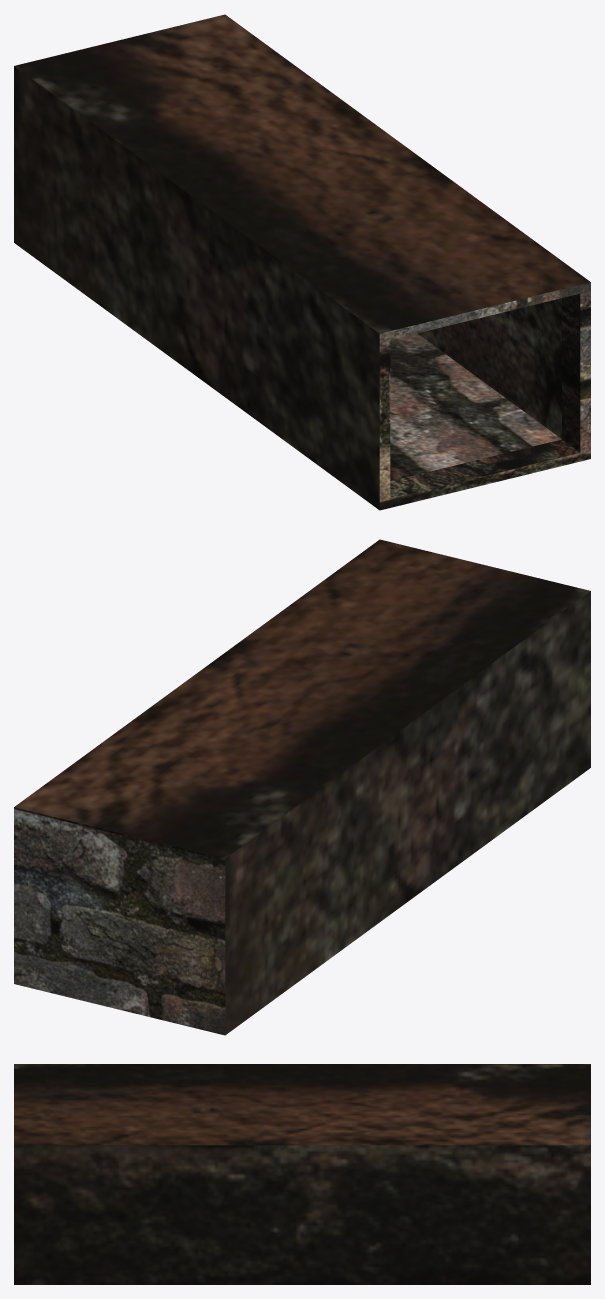
3 views of the same model, one above another, from view 1: azimuth 30°, elevation 25°; view 2: azimuth 150°, elevation 25°; view 3: azimuth 270°, elevation 25° (orthographic). The views are drawn at different scales.
Visible parts, largest first — view 1: 立方体; view 2: 立方体; view 3: 立方体.
Part boxes in pixels (box(x1,y1,x2,y2)): 立方体: box(14, 14, 590, 510); 立方体: box(14, 539, 590, 1035); 立方体: box(14, 1064, 590, 1284).
Bounding box in the file's own units: 2 × 1.6 × 6.
1 material, 1 textured.
